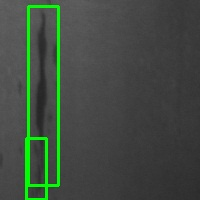inclusion: (28, 6, 58, 185), (26, 138, 46, 199)
